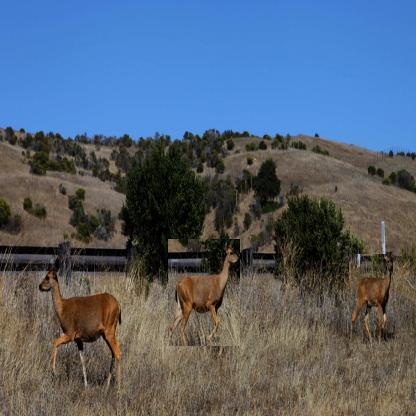Deer: (42, 261, 122, 392), (168, 239, 240, 346), (350, 254, 394, 351)
